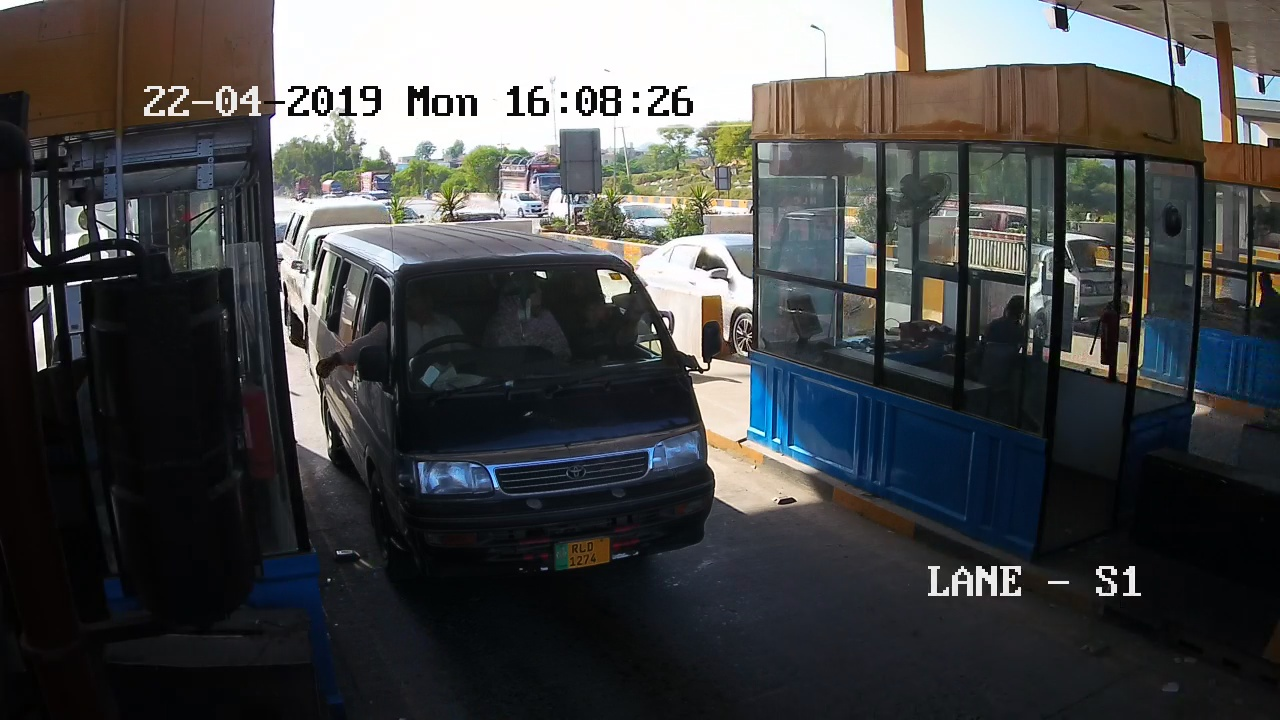Number Plate (Car): (554, 539, 612, 568)
